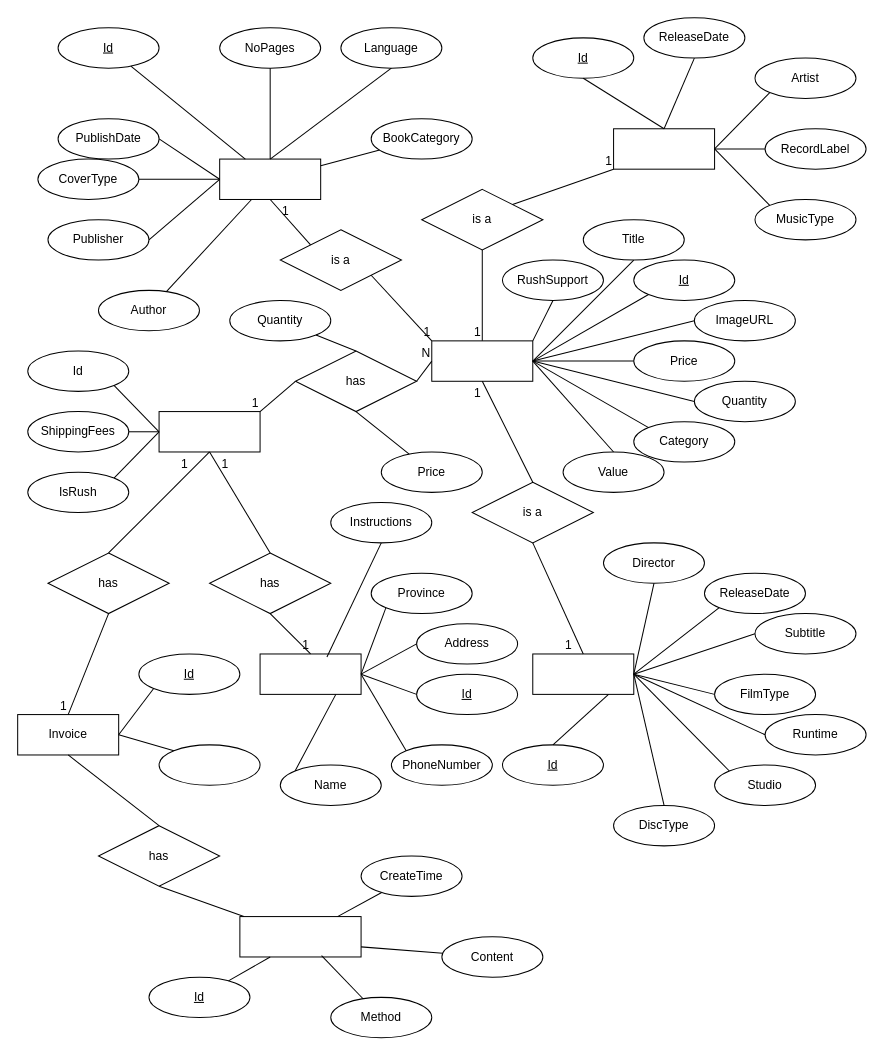
Some shapes in this 884 by 1055 pixel diagram are drawn without their labels. Here are the shapes that lost their labels. From the top down, the centre of each, then its label:
pixel 664 148: CD
pixel 270 178: Book
pixel 482 360: Product
pixel 209 431: Order
pixel 310 673: DeliveryInfo
pixel 583 673: DVD
pixel 209 764: TotalAmount
pixel 300 936: TransactionInfo
